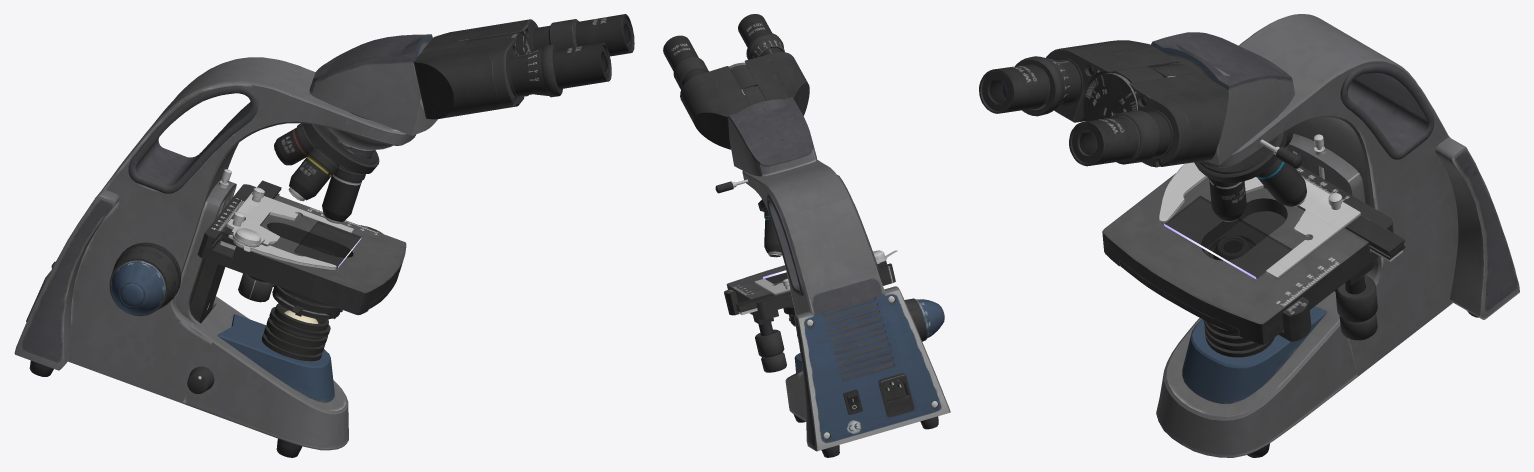
The model's file is scope-draco.glb.
3 renders of one model, left to right at view 1: azimuth 30°, elevation 25°; view 2: azimuth 150°, elevation 25°; view 3: azimuth 270°, elevation 25°, orthographic. The views are drawn at different scales.
Parts seen in each view (by area): view 1: Circle_microscope_body_0, eye_glass_glass_0; view 2: Circle_microscope_body_0; view 3: Circle_microscope_body_0, eye_glass_glass_0.
Part boxes in pixels (x1=…): Circle_microscope_body_0: x1=14, y1=14, x2=634, y2=457; eye_glass_glass_0: x1=293, y1=24, x2=630, y2=268; Circle_microscope_body_0: x1=663, y1=14, x2=950, y2=457; Circle_microscope_body_0: x1=979, y1=14, x2=1519, y2=457; eye_glass_glass_0: x1=989, y1=79, x2=1291, y2=279.
Size of the model in its own units: 9.73 by 7.89 by 7.97.
Materials: 4 (4 with a texture image).
